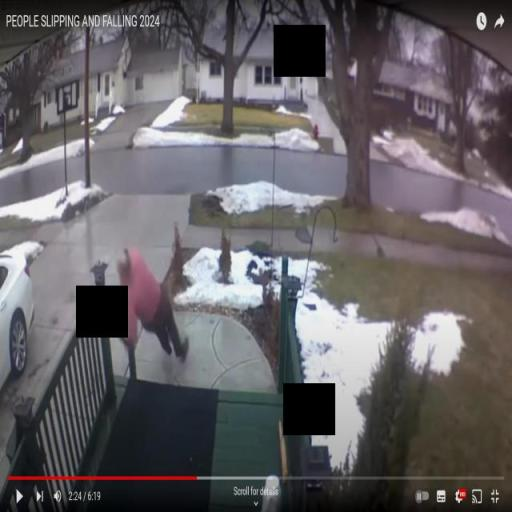Fall: (112, 243, 191, 368)
